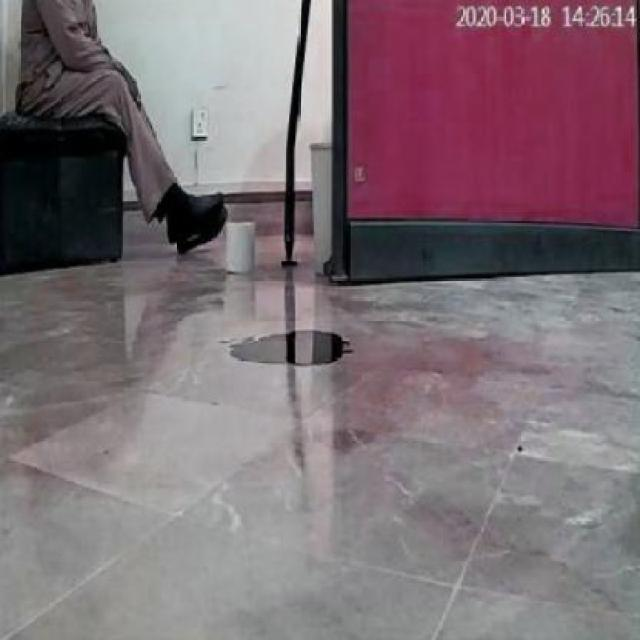spillage: (230, 329, 353, 368)
